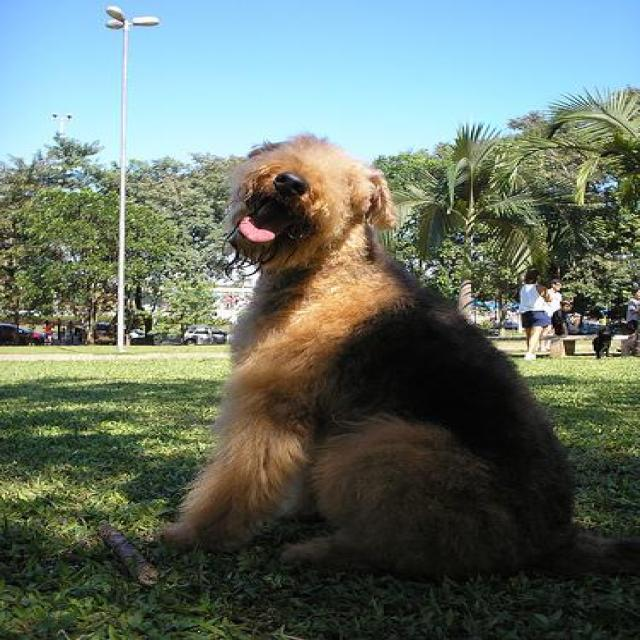airedale: (171, 132, 574, 585)
